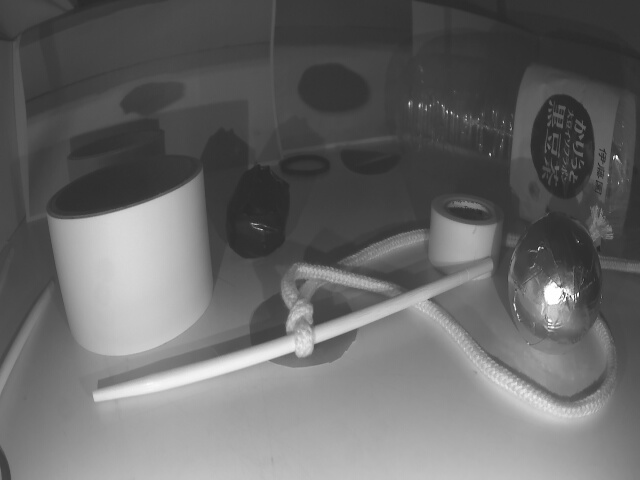Dead: (232, 169, 294, 254)
Live: (508, 211, 602, 350)
